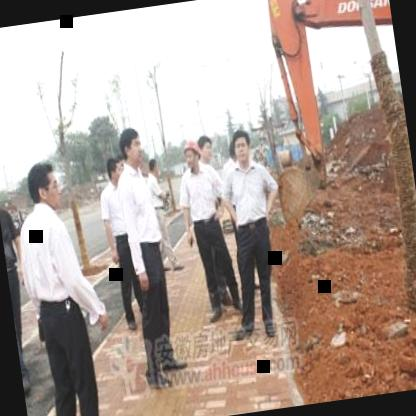head: (22, 157, 63, 213), (116, 122, 146, 171), (226, 126, 256, 166), (103, 154, 125, 192), (196, 134, 216, 166)
helmet: (178, 134, 203, 176)
